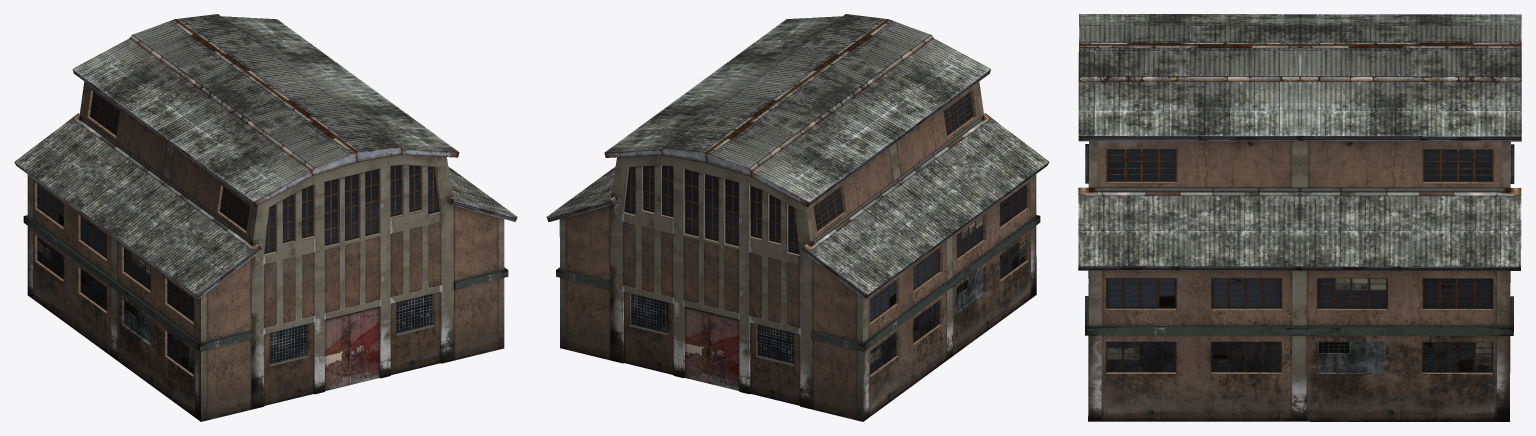
Rendered from warehouse_building.glb.
3 views of the same model, side by side, from view 1: azimuth 30°, elevation 25°; view 2: azimuth 150°, elevation 25°; view 3: azimuth 270°, elevation 25° (orthographic). The views are drawn at different scales.
Parts seen in each view (by area): view 1: Object_2; view 2: Object_2; view 3: Object_2.
Boxes of the visible parts, x1,y1,x2,y2 form: Object_2: (14, 14, 517, 421); Object_2: (546, 14, 1049, 421); Object_2: (1078, 14, 1521, 421).
Size of what is drawn, in the model's own units: 25.71 by 18.06 by 25.27.
1 material, 1 textured.
